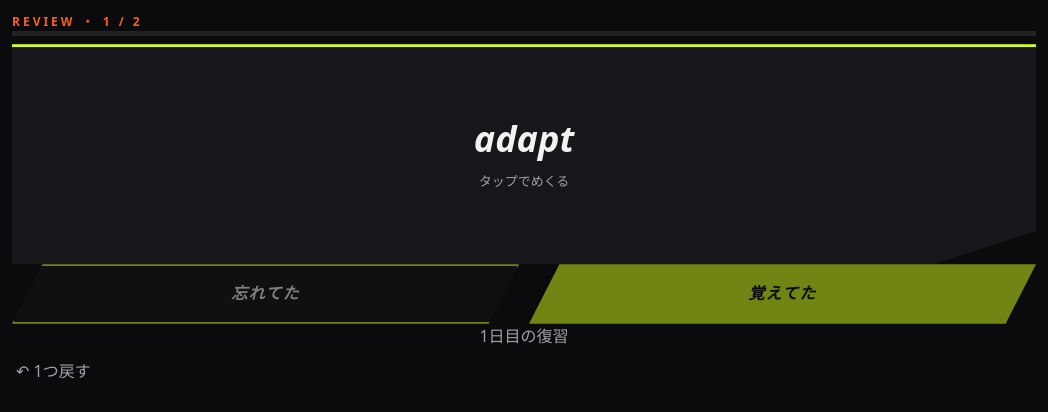
Review › 送信前なら ↶ でキューから外れ、カードが戻る
Click the button "adapt タップでめくる".
click(73, 154)  # box [12,44,1036,264]
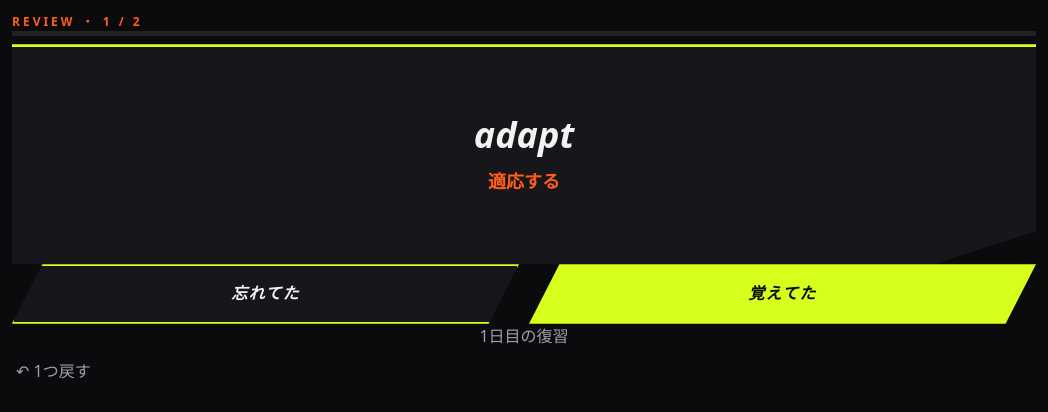
Click the button "覚えてた".
click(782, 294)  # box [529,264,1036,324]
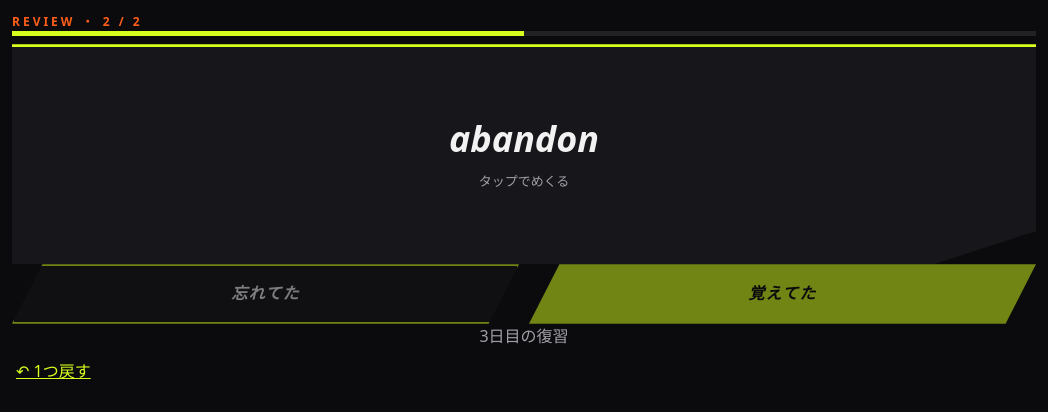
Now the text "REVIEW ・ 2 / 2" is shown, box [12,13,143,30]
Click the button "↶ 1つ戻す".
click(53, 372)  # box [12,349,95,395]
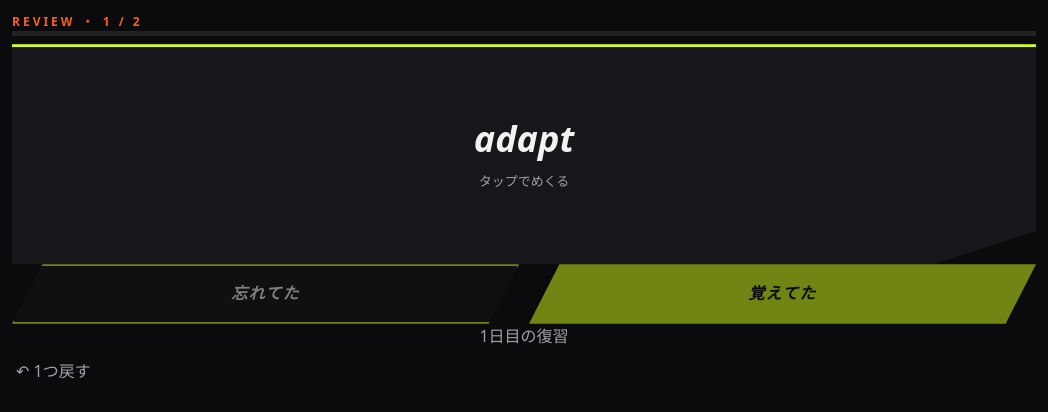
Now the text "REVIEW ・ 1 / 2" is shown, box [12,13,143,30]
